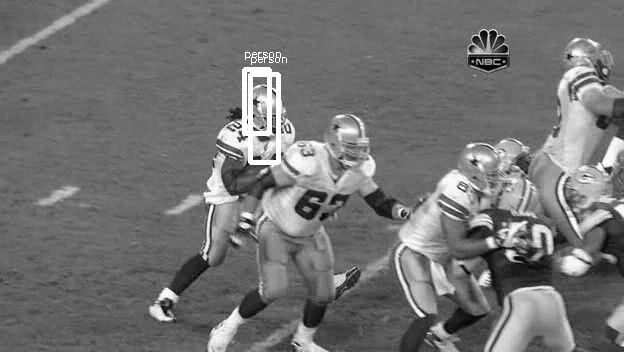person: (251, 85, 286, 130), (250, 85, 285, 130), (252, 85, 287, 130), (251, 84, 286, 129), (251, 86, 286, 131)
target_negative: (395, 26, 624, 213), (361, 16, 582, 208), (89, 265, 303, 349), (545, 30, 578, 263), (161, 291, 367, 320), (277, 347, 549, 349)
